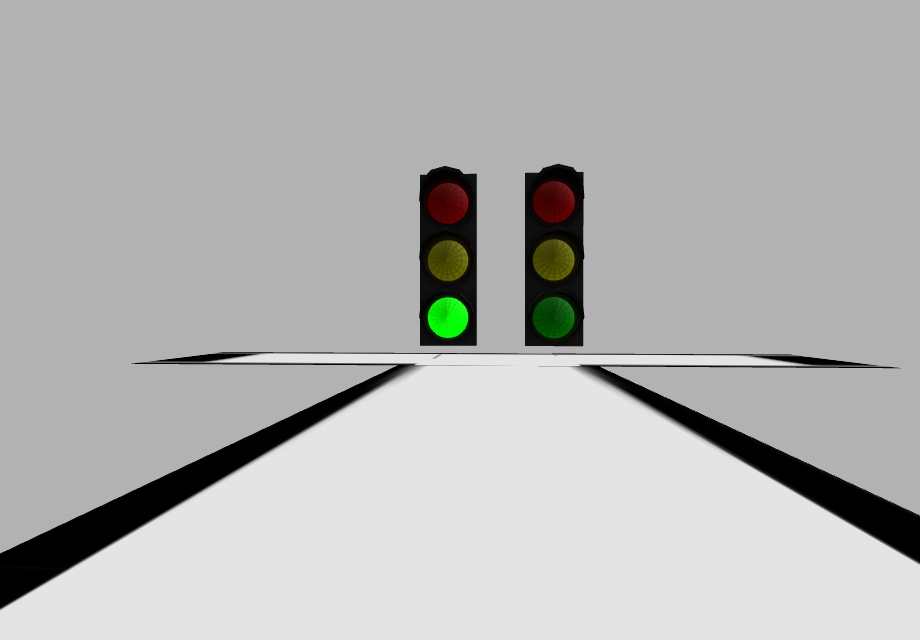green_off: (537, 297, 574, 338)
green_on: (429, 298, 468, 339)
